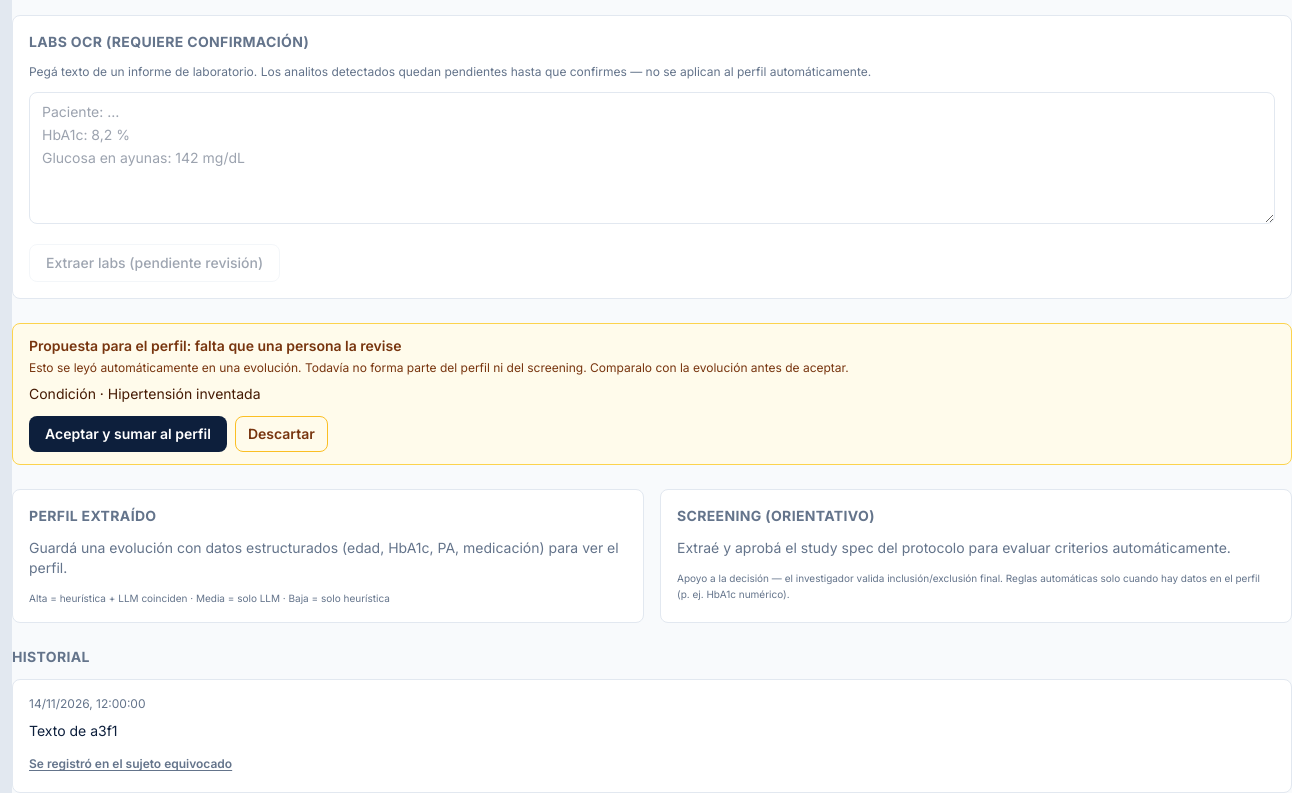
Test case: después de una declaración confirmada › una propuesta que aparece después de anular (la extracción llegó tarde) se muestra: la que se oculta es la de la copia vieja
(page scrolled)
Click the button "Se registró en el sujeto equivocado" at (131, 764), box [29,756,232,772]
(page scrolled)
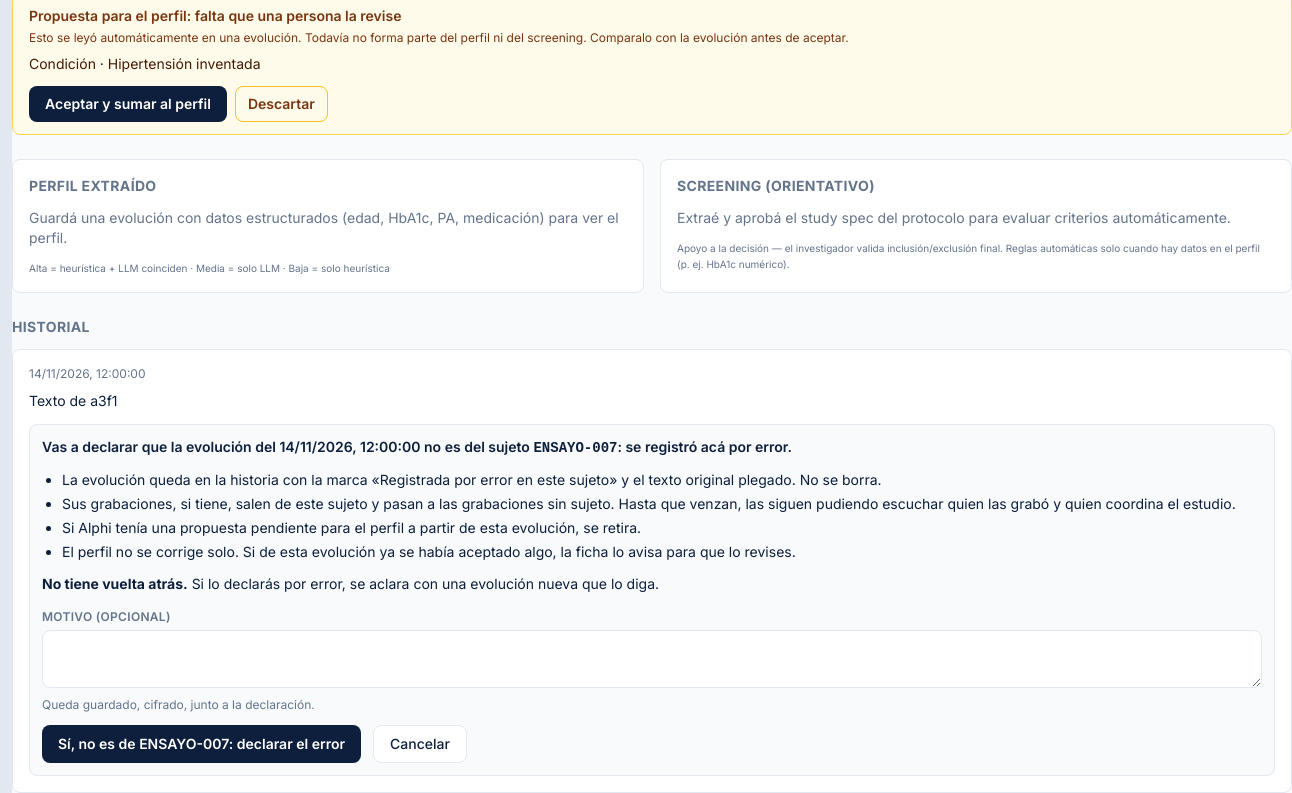
Click the button "Sí, no es de ENSAYO-007: declarar el error" at (202, 744), box [42,725,361,763]
(page scrolled)
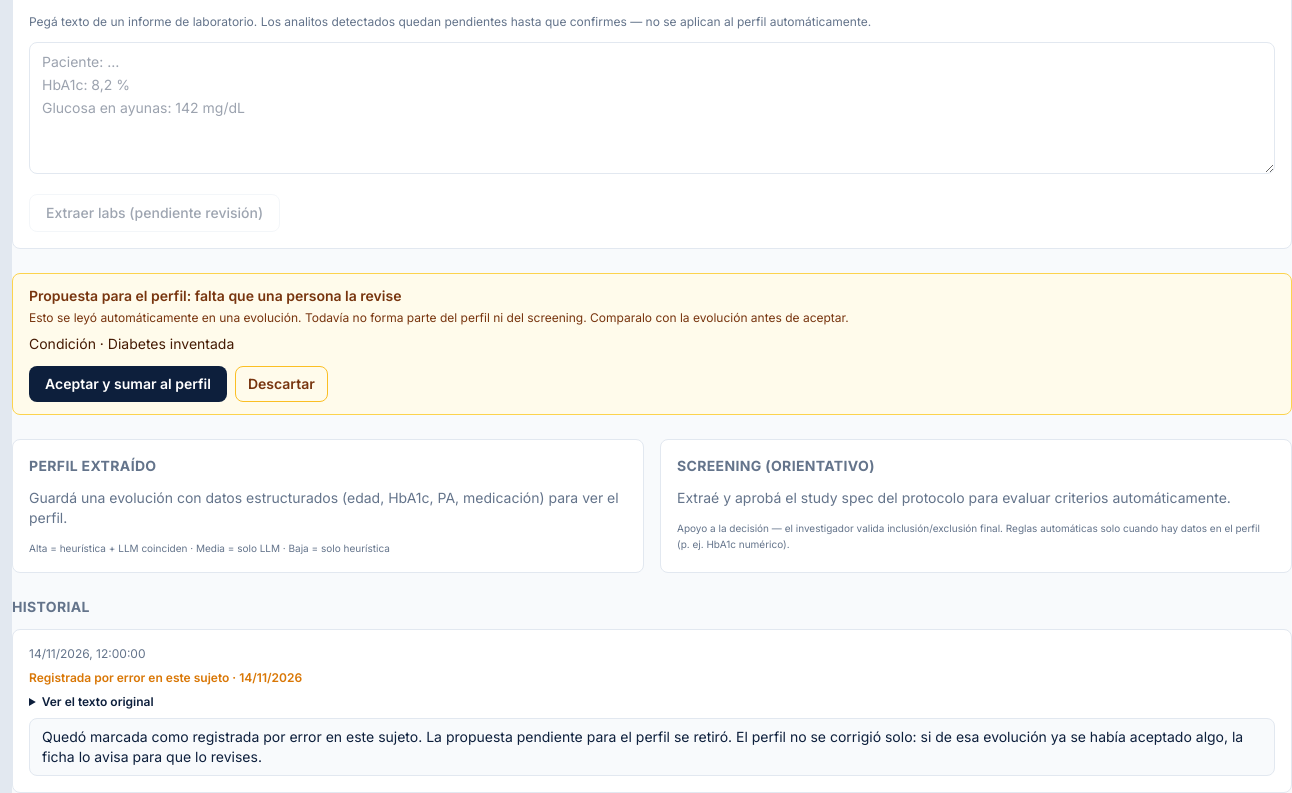
expect the text "Condición · Diabetes inventada" is shown: met, box [29,334,234,352]
